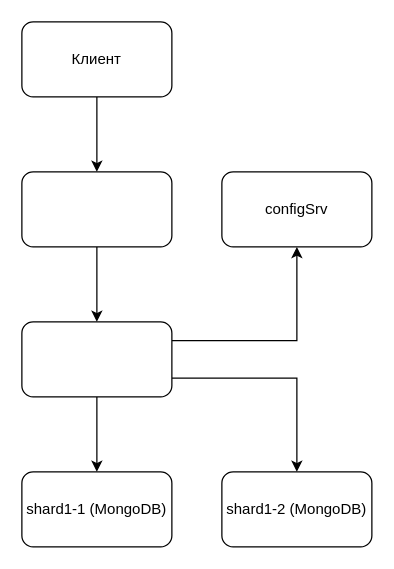
Image size: 394x569. Some labels were removed from this diagram. Each missing label, with the centre of its shape:
"pymongo_api" goes at point (96, 209).
"router" goes at point (96, 359).
